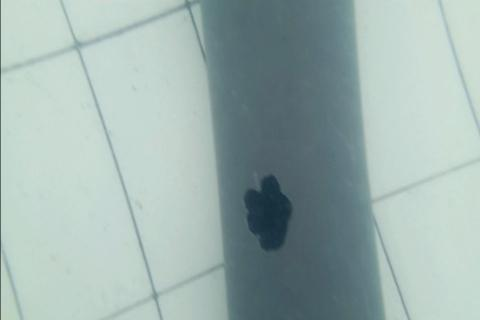kebocoran: (243, 171, 294, 254)
